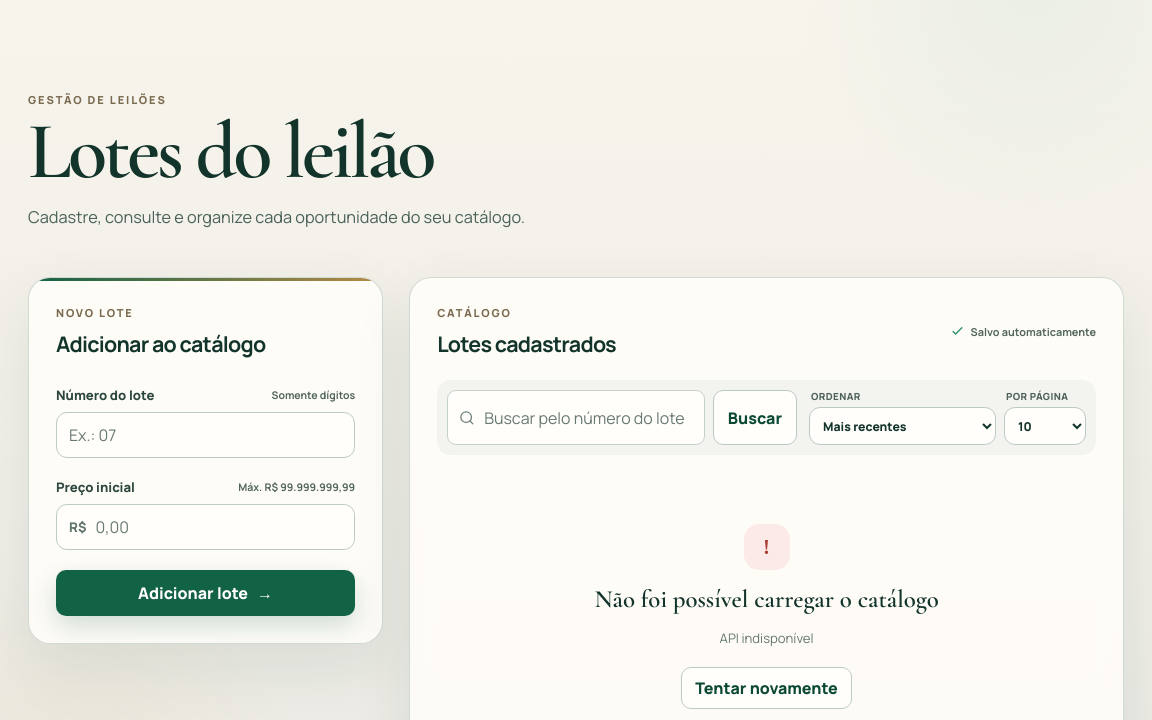
Test case: App › mostra erro de conexão e permite tentar novamente
The width and height of the screenshot is (1152, 720).
Expected: the text "API indisponível" is shown, [720,628,814,649]
Click the button "Tentar novamente": (767, 688) [681,667,852,709]
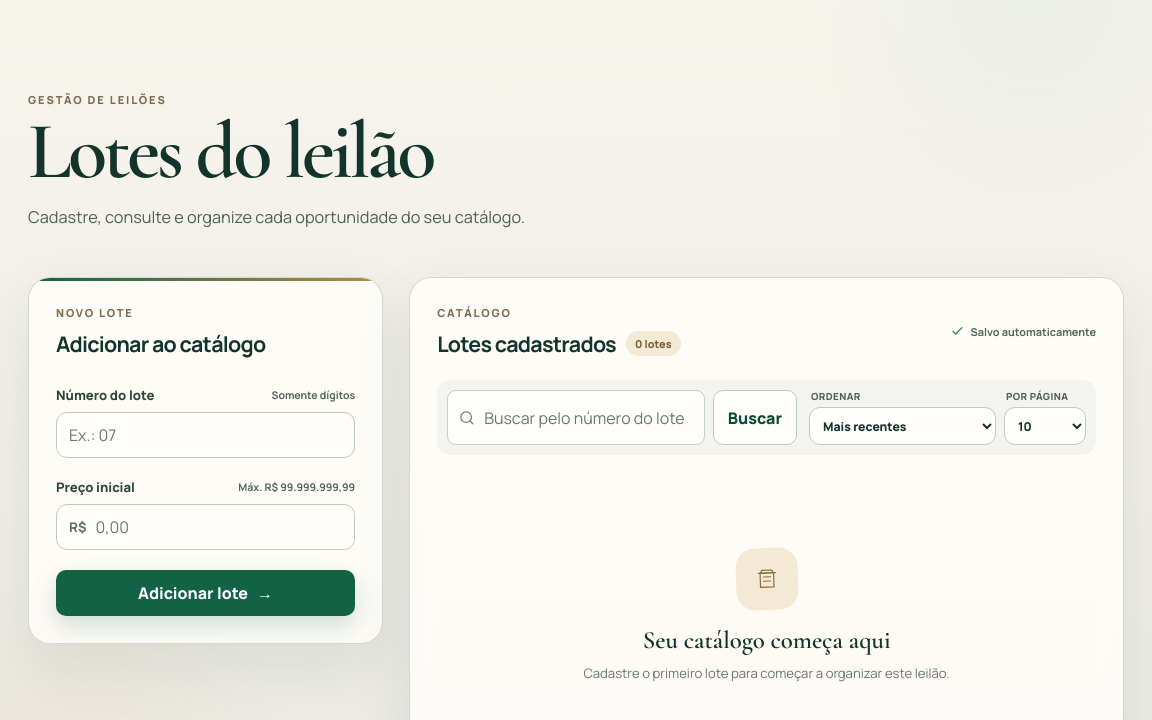
Result: the heading "Seu catálogo começa aqui" is shown at [643,625,890,655]
